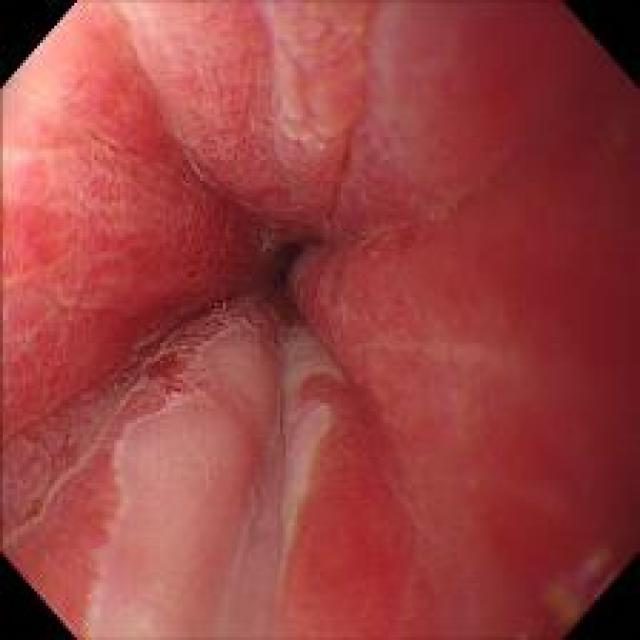bubbles: (199, 291, 231, 315)
